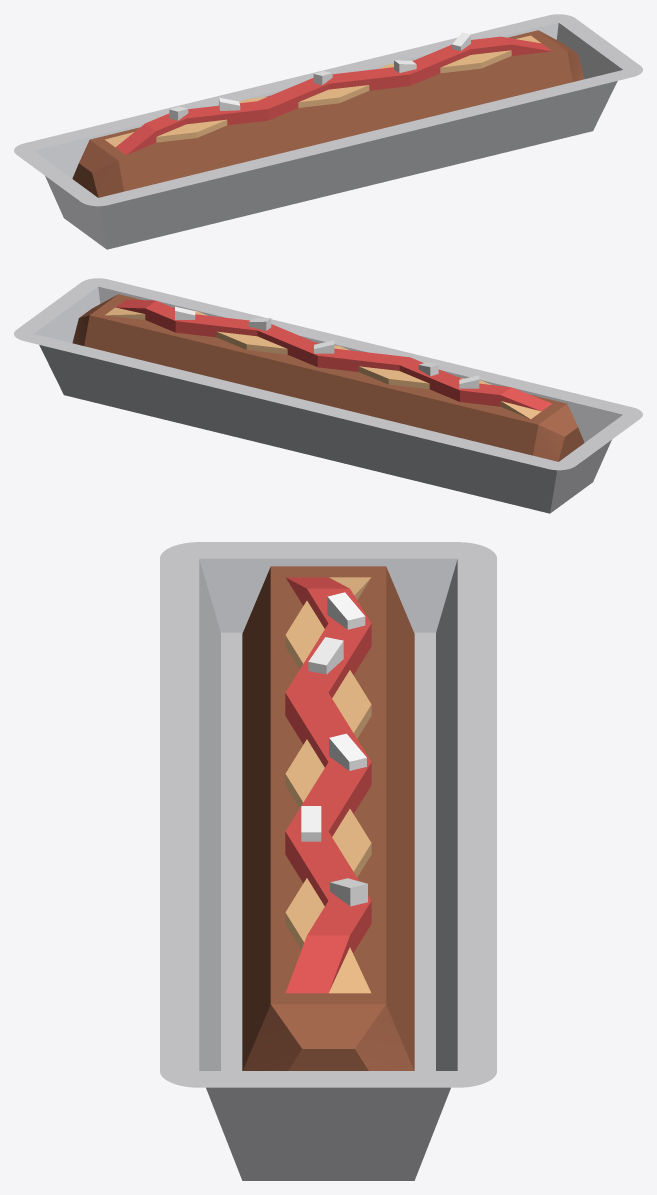
The model's file is frikandelSpeciaal.dae.
3 views of the same model, one above another, from view 1: azimuth 30°, elevation 25°; view 2: azimuth 150°, elevation 25°; view 3: azimuth 270°, elevation 25° (orthographic). The views are drawn at different scales.
Visible parts, largest first — view 1: frikandelSpeciaal, frikandel, sauceOnions; view 2: frikandelSpeciaal, frikandel, sauceOnions; view 3: frikandelSpeciaal, frikandel, sauceOnions.
Boxes of the visible parts, box(x1,y1,x2,y2) form: frikandelSpeciaal: box(14, 14, 642, 249); frikandel: box(72, 30, 584, 197); sauceOnions: box(105, 32, 551, 155); frikandelSpeciaal: box(14, 278, 642, 513); frikandel: box(72, 294, 584, 461); sauceOnions: box(105, 299, 551, 419); frikandelSpeciaal: box(160, 542, 496, 1180); frikandel: box(242, 566, 414, 1070); sauceOnions: box(285, 577, 371, 993).
Bounding box in the file's own units: 0.636 × 0.1087 × 0.1661.
